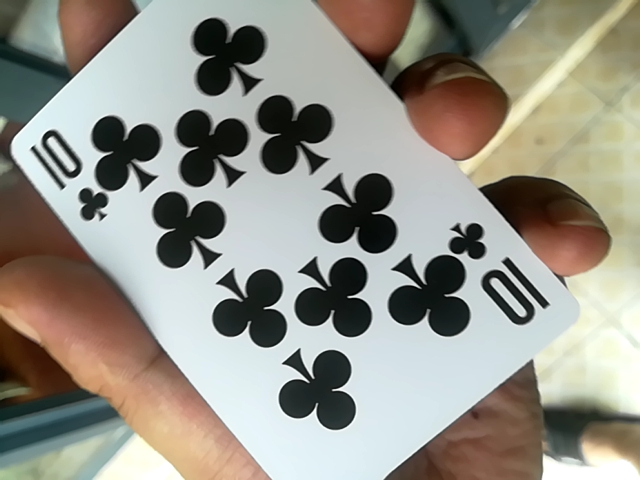mh 10: (11, 10, 562, 476)
